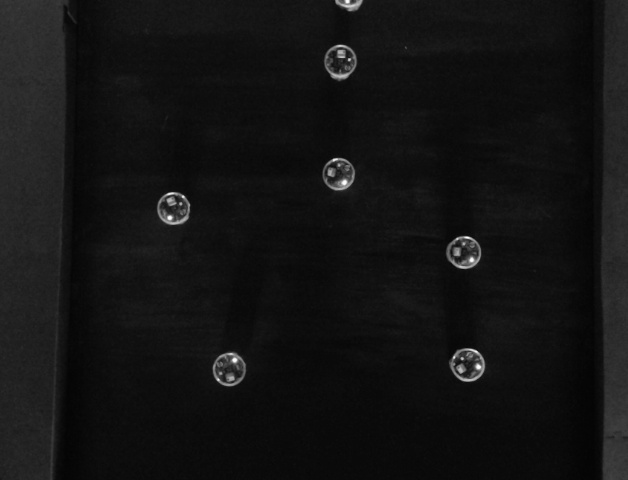epuck_2: (448, 346, 486, 383), (322, 44, 356, 82), (446, 233, 481, 269), (156, 191, 191, 226), (321, 157, 356, 191), (212, 352, 247, 385), (331, 1, 364, 12)
